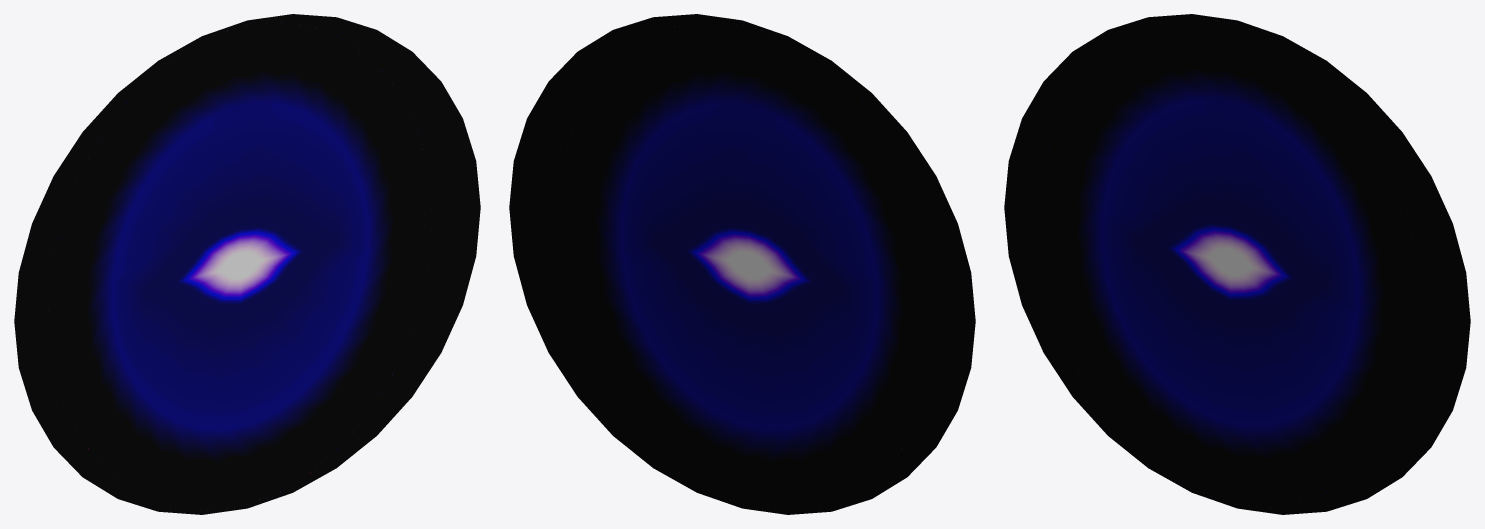
Rendered from Mystic Mansion - Switch Effect.obj.
3 renders of one model, left to right at view 1: azimuth 30°, elevation 25°; view 2: azimuth 150°, elevation 25°; view 3: azimuth 330°, elevation 25°, orthographic.
Visible parts, largest first — view 1: default; view 2: default; view 3: default.
Part boxes in pixels (x1,y1,x2,y2): default: [14, 14, 480, 514]; default: [509, 14, 975, 514]; default: [1004, 14, 1470, 514].
Size of the model in its own units: 40 by 40 by 0.
1 material, 1 textured.
